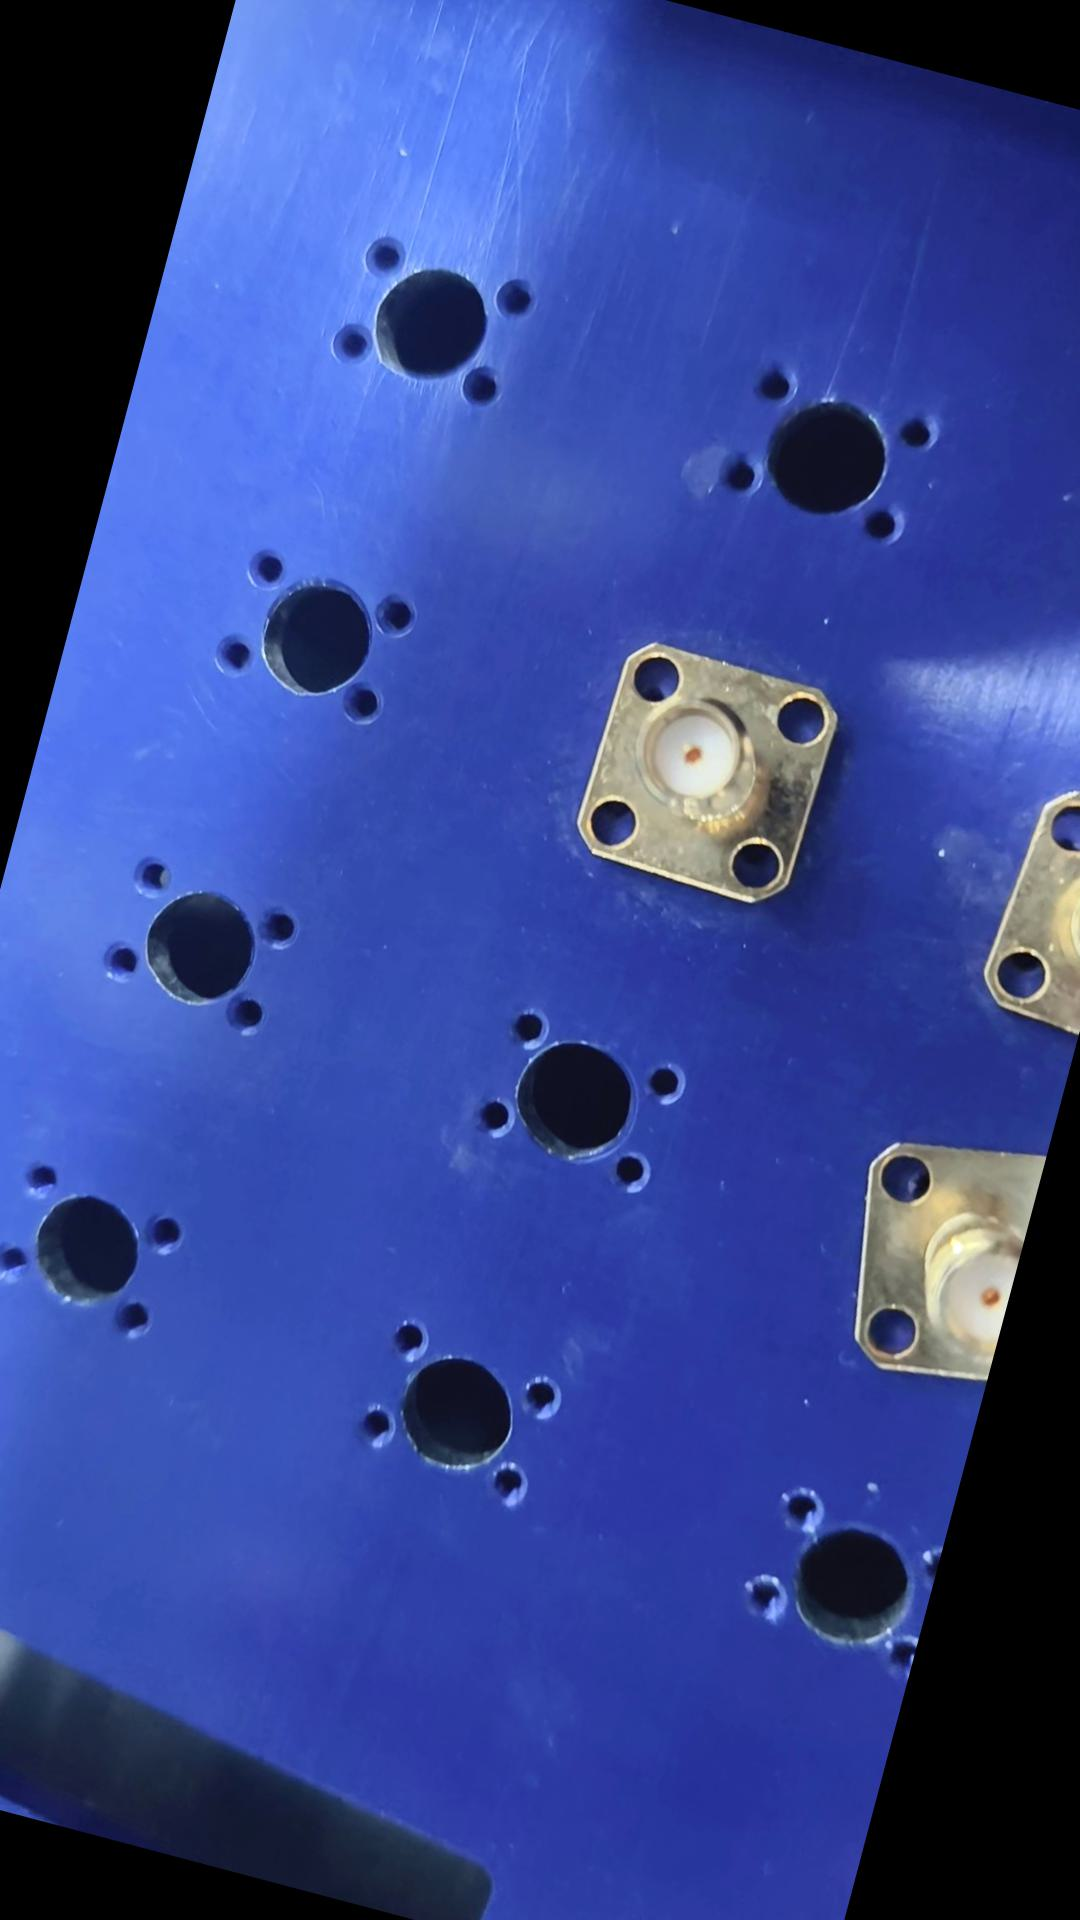SMA: (560, 636, 851, 916)
